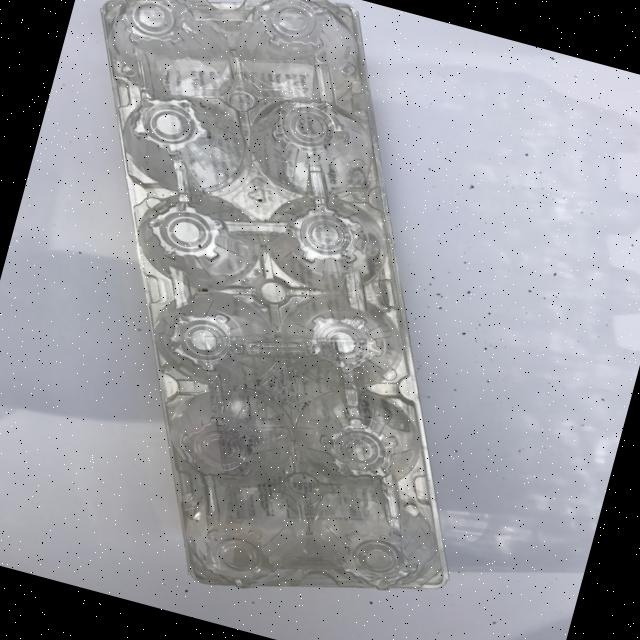plastic: (0, 0, 587, 640)
